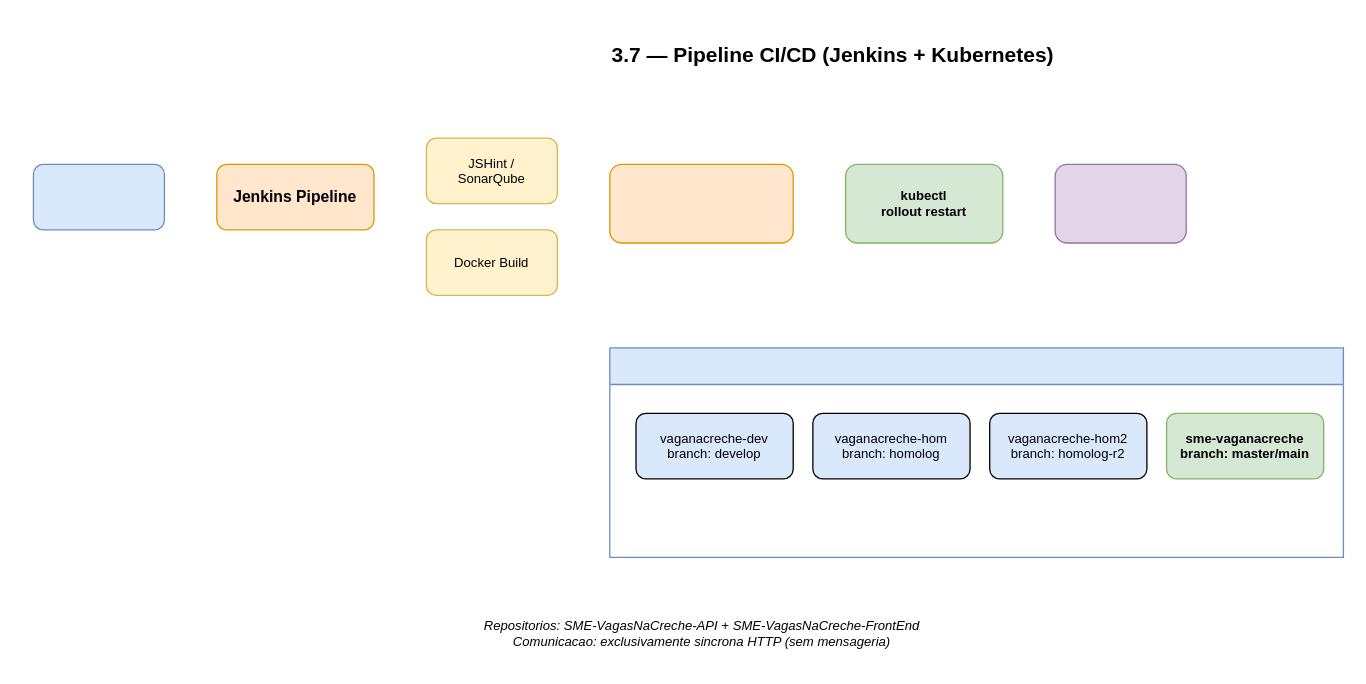
The diagram is 1366 pixels wide and 684 high, and some of its shapes have lost their labels. Here are the shapes that lost their labels. From the top down, the box of each, then its label:
(32, 163, 164, 230): Push Git
(608, 163, 793, 243): Registry SME registry.sme. prefeitura.sp.gov.br
(1054, 163, 1186, 243): Notificacao Telegram
(608, 346, 1343, 557): Ambientes Kubernetes
